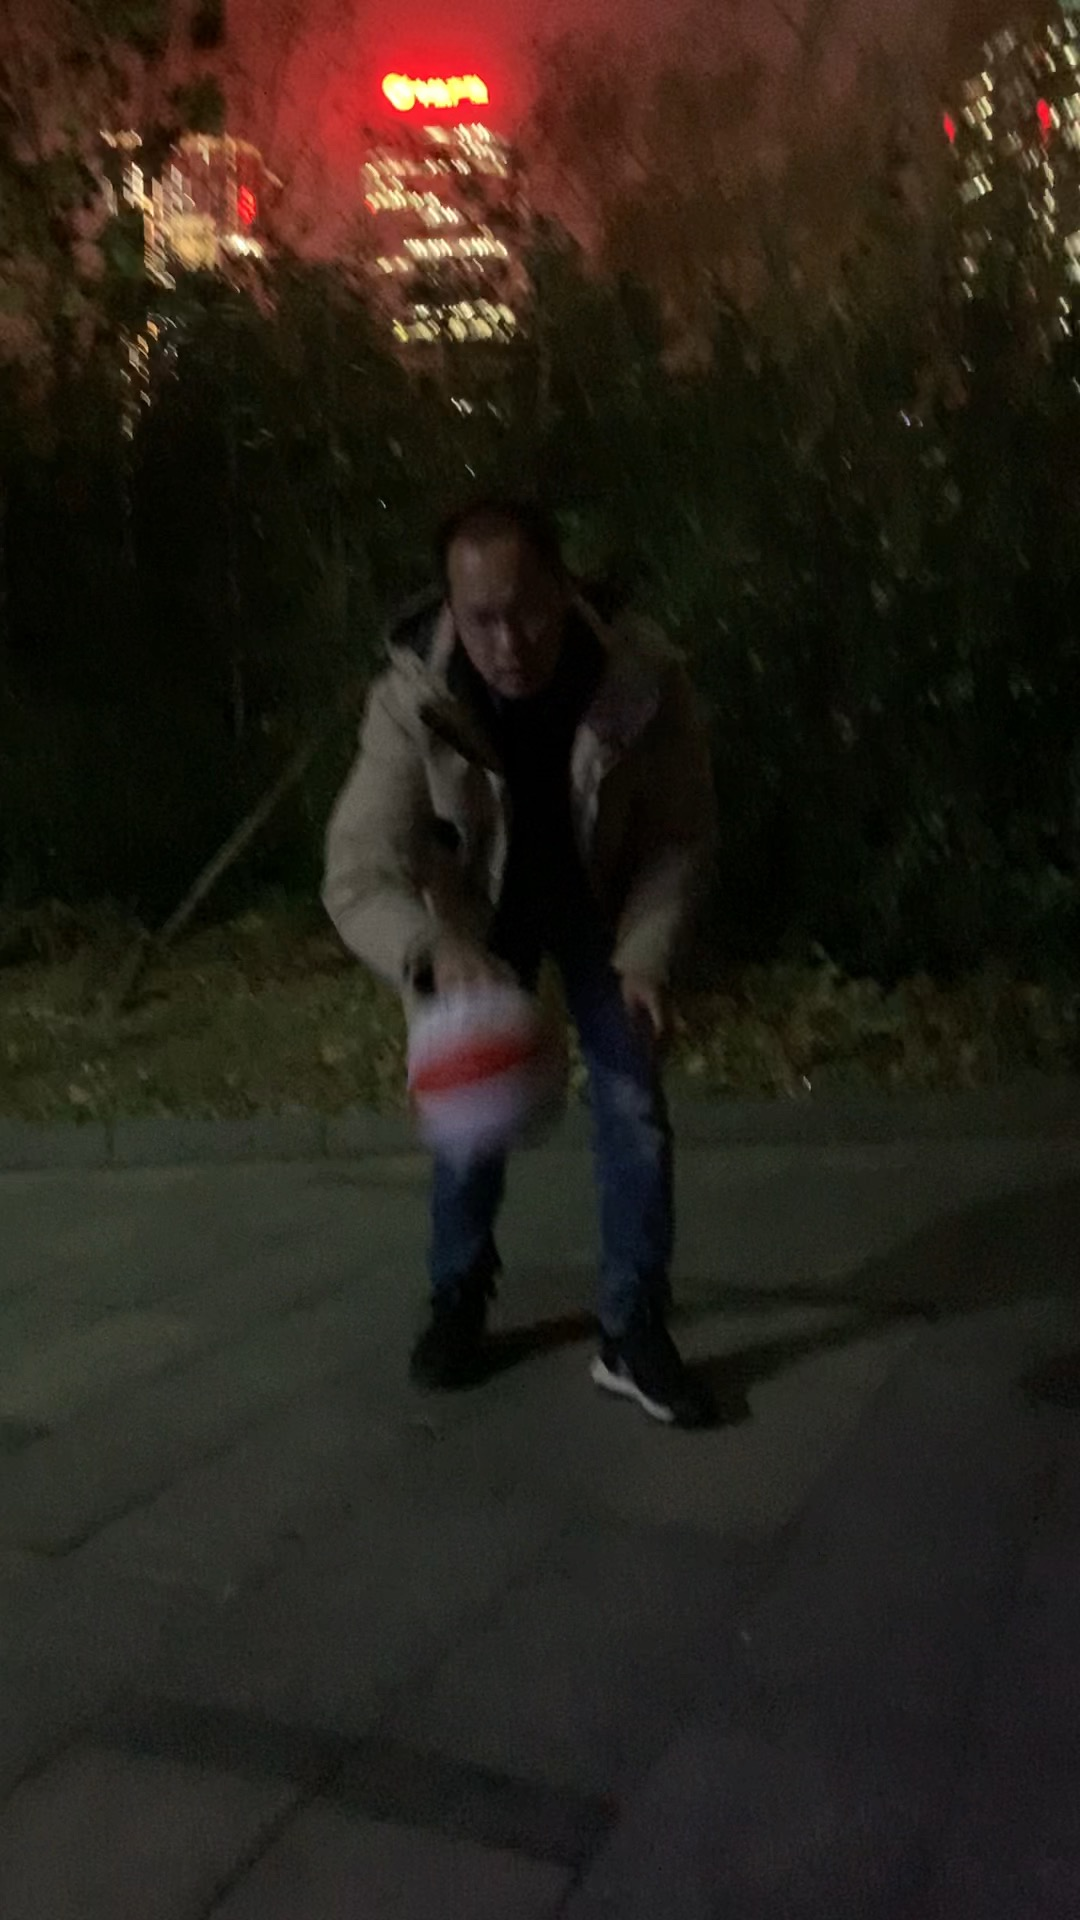ball: (397, 986, 574, 1156)
